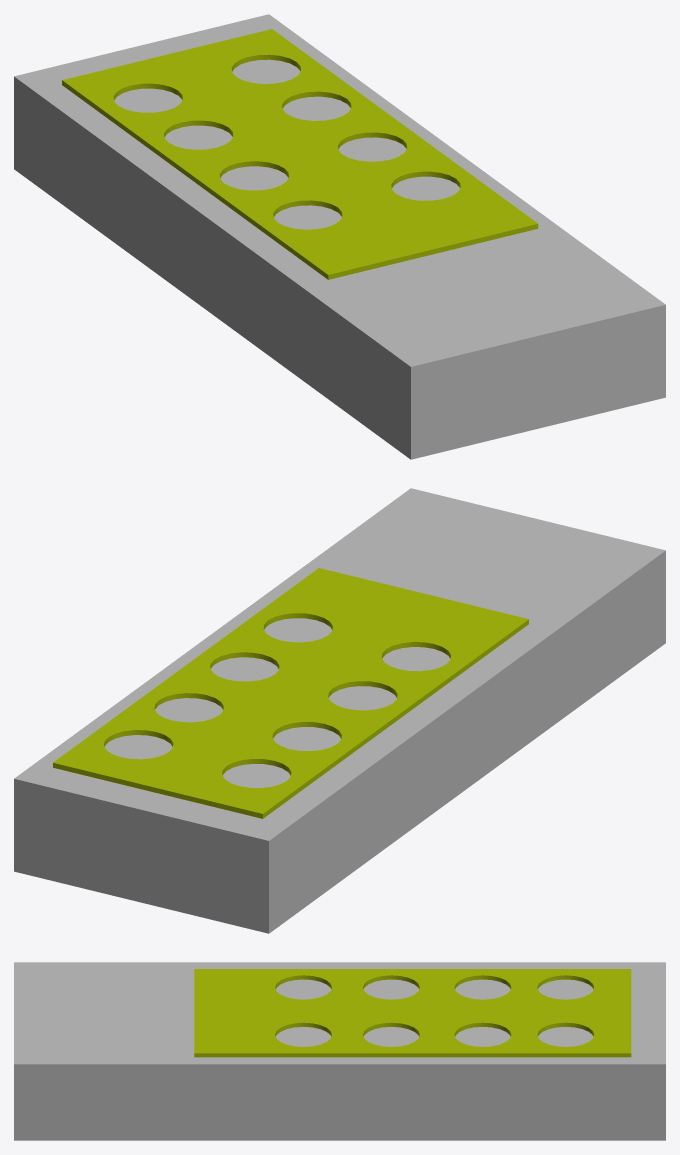
Rendered from Mesa F uv.fbx.
3 renders of one model, top to bottom at view 1: azimuth 30°, elevation 25°; view 2: azimuth 150°, elevation 25°; view 3: azimuth 270°, elevation 25°, orthographic. The views are drawn at different scales.
Parts seen in each view (by area): view 1: pasted__mesa_F, polySurface1; view 2: pasted__mesa_F, polySurface1; view 3: pasted__mesa_F, polySurface1.
Part boxes in pixels (x1,y1,x2,y2): pasted__mesa_F: [14, 14, 665, 459]; polySurface1: [62, 29, 538, 279]; pasted__mesa_F: [14, 488, 665, 933]; polySurface1: [53, 568, 528, 818]; pasted__mesa_F: [14, 962, 665, 1140]; polySurface1: [194, 969, 631, 1057].
Size of the model in its own units: 11.5 by 4.21 by 31.
